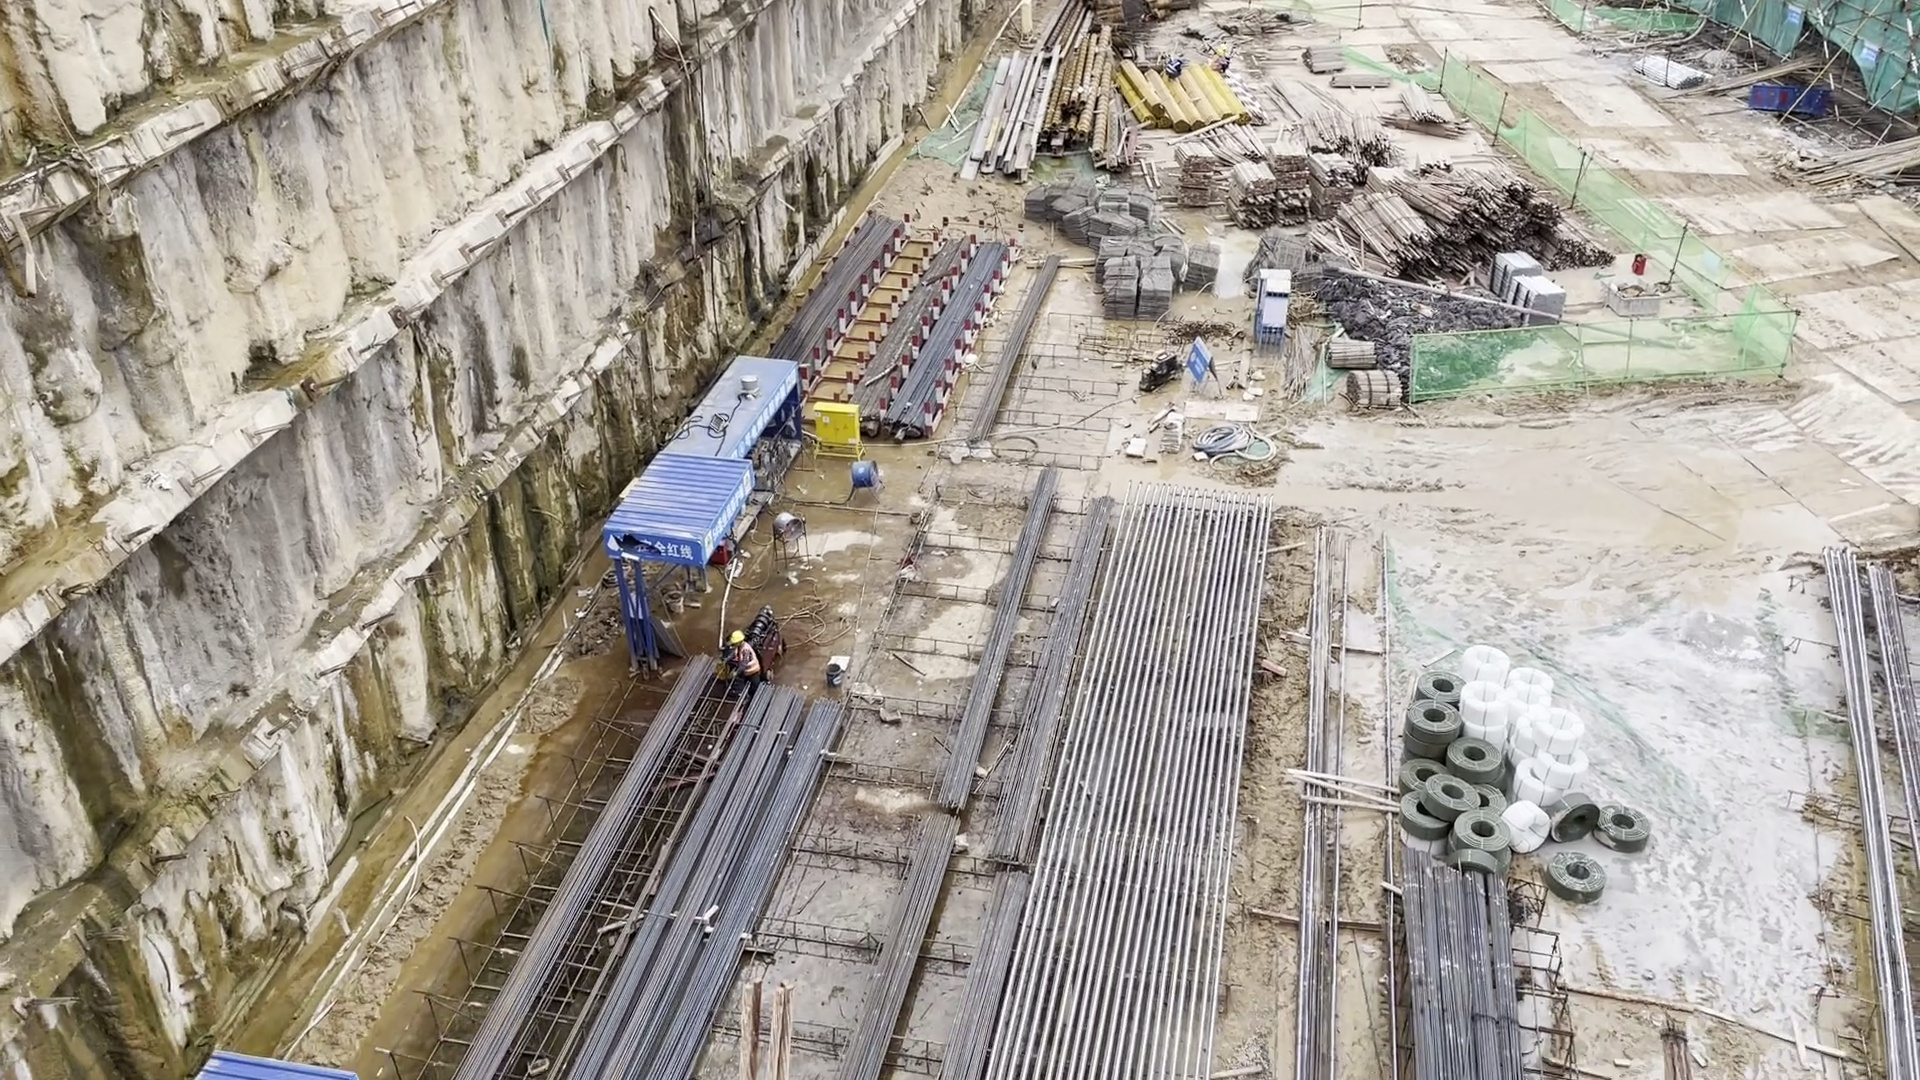brick: (1491, 258, 1563, 328)
ebox: (814, 400, 873, 458)
helmet: (731, 628, 742, 644)
hopper: (1745, 80, 1832, 123)
rebar: (973, 487, 1278, 1080), (496, 669, 866, 1080), (791, 224, 1080, 452), (1818, 550, 1920, 1080), (1399, 845, 1528, 1080)
slogan: (608, 530, 703, 559)
vest: (732, 644, 757, 675)
